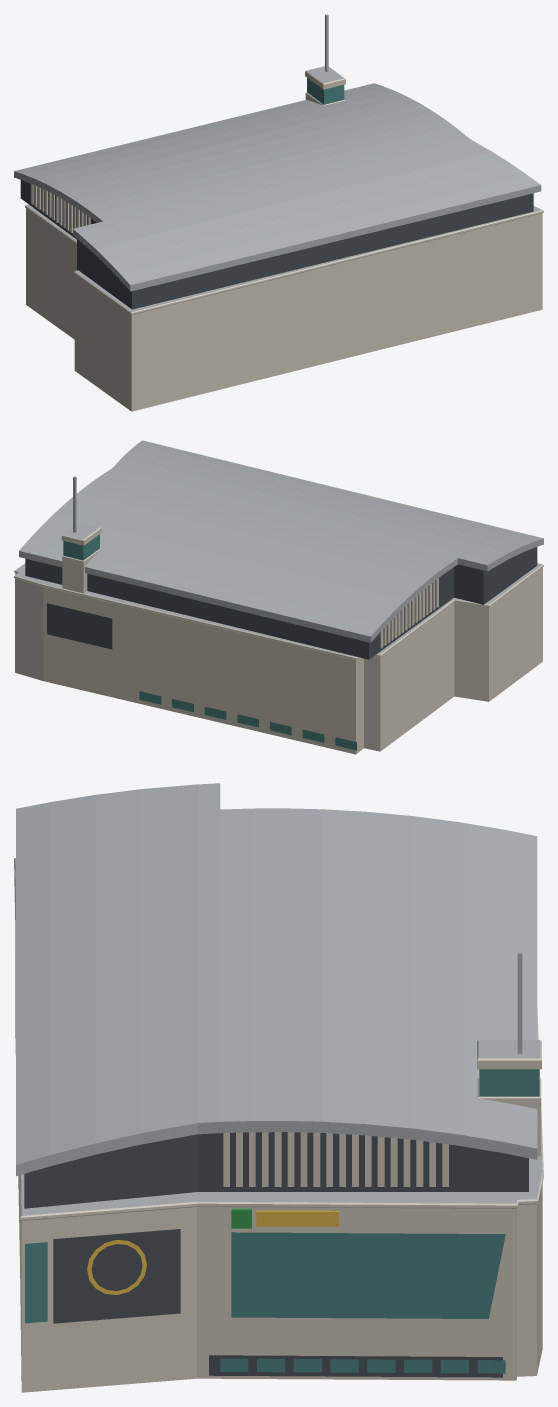
Rendered from bos-td-garden.glb.
The picture shows the model from 3 angles, top to bottom: view 1: azimuth 30°, elevation 25°; view 2: azimuth 150°, elevation 25°; view 3: azimuth 270°, elevation 25°; orthographic projection. The views are drawn at different scales.
Parts seen in each view (by area): view 1: TD Garden; view 2: TD Garden; view 3: TD Garden.
Boxes of the visible parts, left/top/right/bottom form: TD Garden: left=14, top=14, right=543, bottom=411; TD Garden: left=14, top=440, right=543, bottom=754; TD Garden: left=14, top=783, right=543, bottom=1392.
Size of the model in its own units: 151 by 73 by 93.7.
